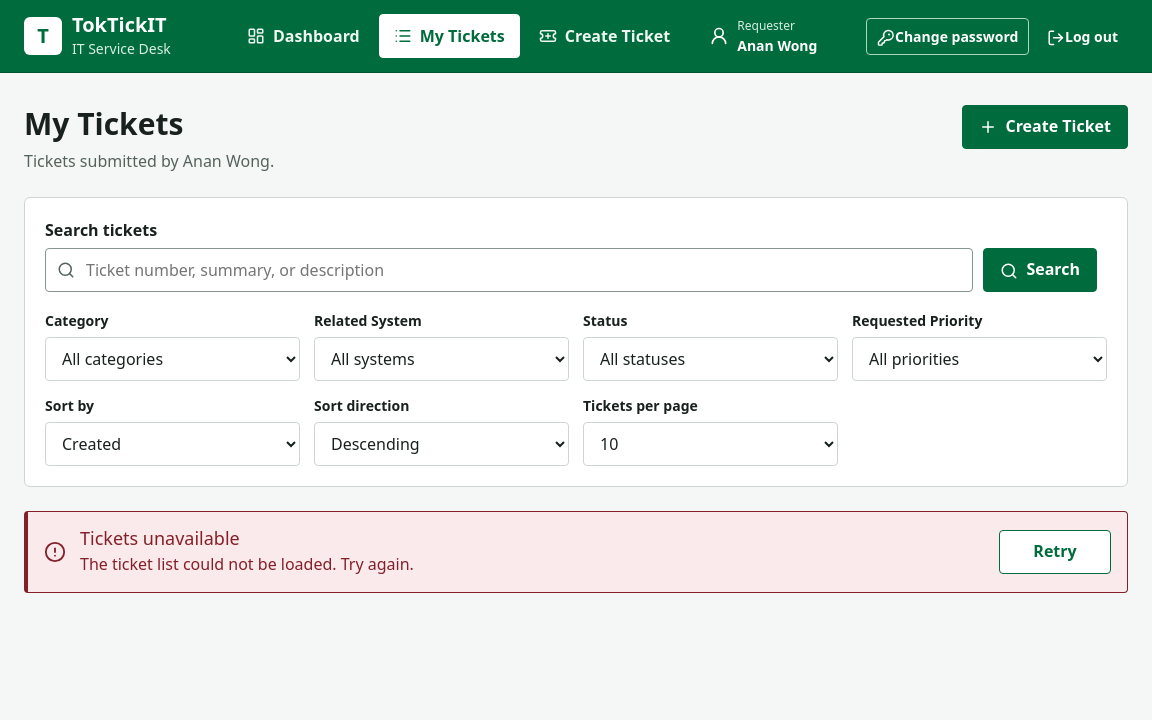
Test: My Tickets › does not let a stale Retry overwrite a newer filtered result
Click the button "Retry" at point(1055, 552), box [999,530,1111,574]
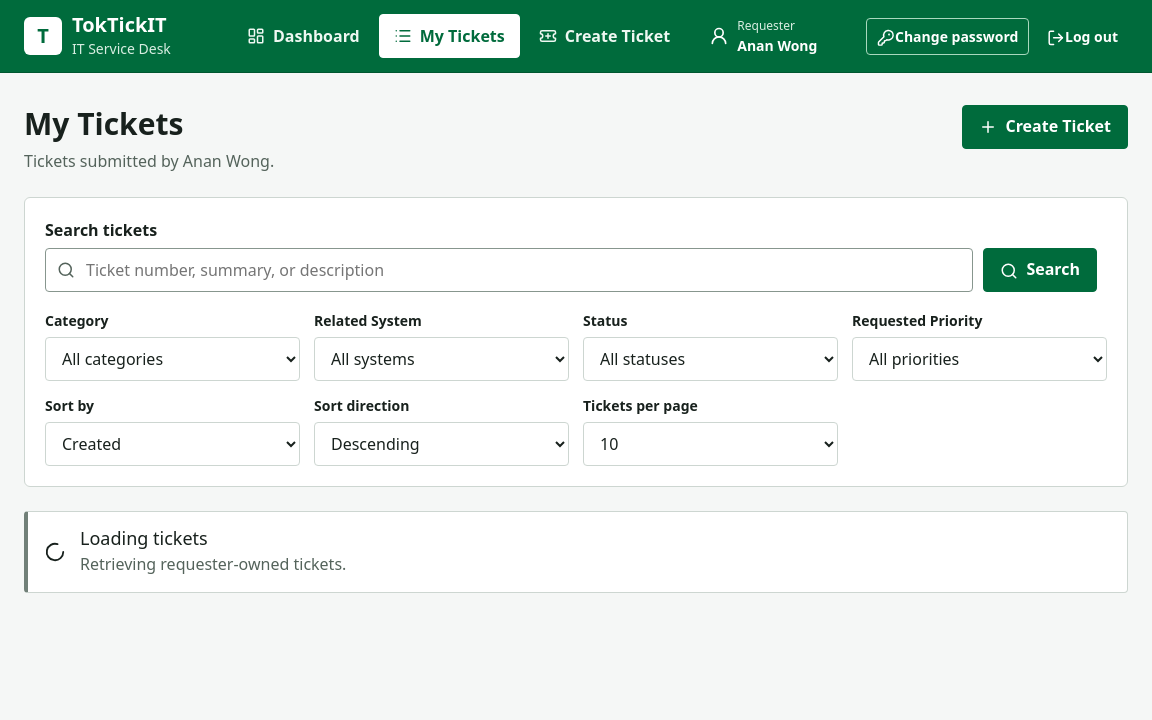
Select "New" in the dropdown labelled "Status" at point(710, 358), box [583,336,838,380]
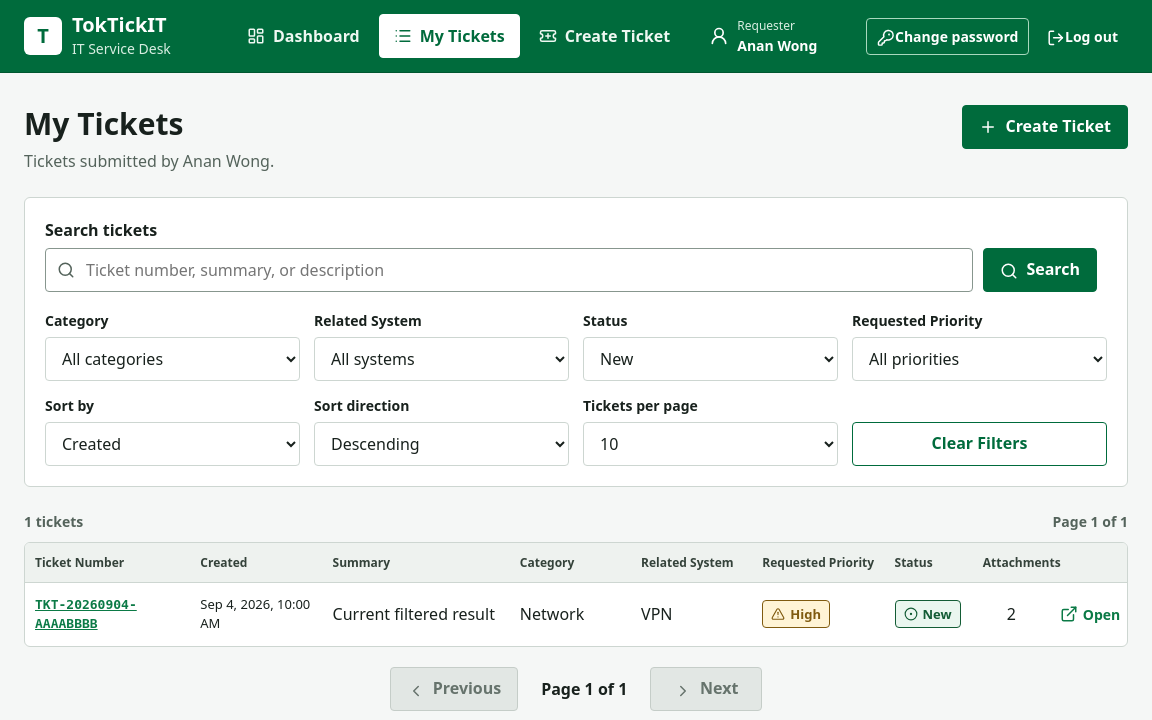
Now the text "Current filtered result" is shown 2 times
